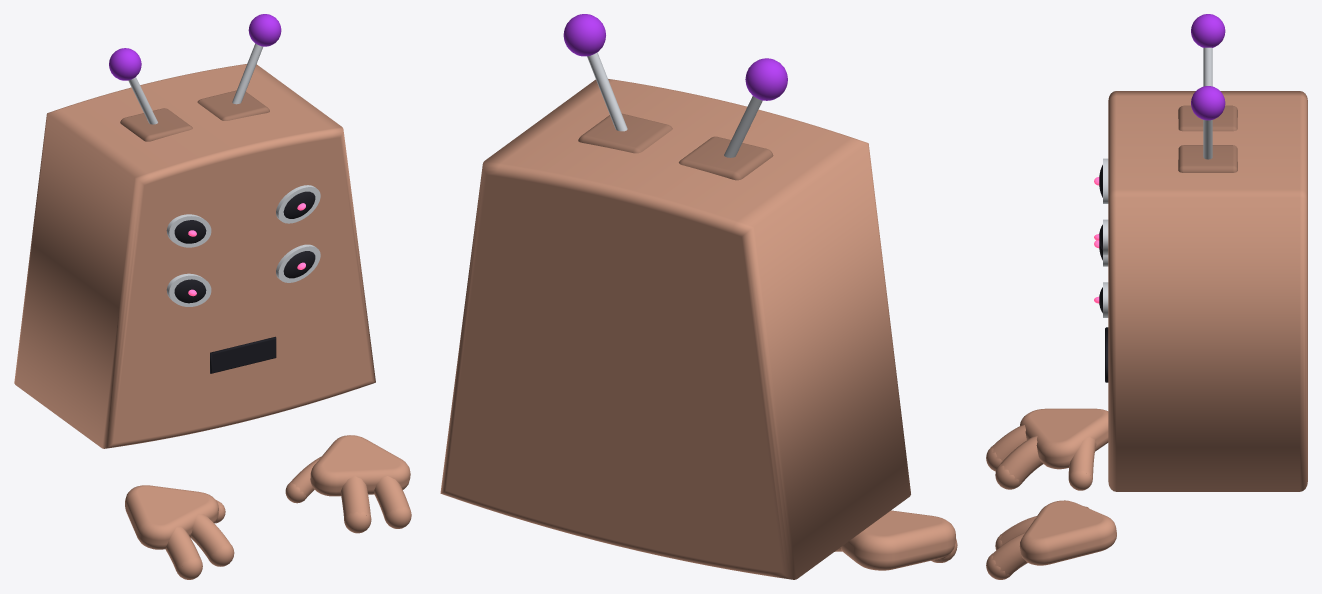
Rendered from model-seed-1.glb.
3 views of the same model, side by side, from view 1: azimuth 30°, elevation 25°; view 2: azimuth 150°, elevation 25°; view 3: azimuth 270°, elevation 25° (orthographic). The views are drawn at different scales.
Parts seen in each view (by area): view 1: head, hand-0, hand-1, mouth, finger-1-1, antenna-base-0, finger-0-1, finger-1-0, antenna-base-1, finger-0-0, antenna-ball-0, antenna-ball-1 (+10 smaller); view 2: head, hand-0, antenna-base-0, antenna-base-1, antenna-ball-0, antenna-ball-1, antenna-stem-1, antenna-stem-0; view 3: head, hand-1, hand-0, antenna-base-1, finger-0-1, finger-1-0, antenna-base-0, thumb-0, antenna-ball-1, antenna-ball-0, finger-0-0, finger-1-1.
Boxes of the visible parts, left/top/right/bottom form: head: left=14, top=64, right=375, bottom=448; hand-0: left=125, top=485, right=218, bottom=549; hand-1: left=310, top=435, right=410, bottom=496; mouth: left=210, top=336, right=276, bottom=373; finger-1-1: left=340, top=475, right=371, bottom=533; antenna-base-0: left=120, top=108, right=192, bottom=141; finger-0-1: left=190, top=513, right=234, bottom=566; finger-1-0: left=374, top=476, right=411, bottom=528; antenna-base-1: left=197, top=90, right=269, bottom=120; finger-0-0: left=165, top=527, right=202, bottom=579; antenna-ball-0: left=109, top=48, right=141, bottom=80; antenna-ball-1: left=248, top=14, right=281, bottom=46; head: left=440, top=79, right=910, bottom=579; hand-0: left=840, top=510, right=955, bottom=570; antenna-base-0: left=679, top=136, right=773, bottom=180; antenna-base-1: left=578, top=113, right=672, bottom=153; antenna-ball-0: left=745, top=58, right=787, bottom=100; antenna-ball-1: left=563, top=14, right=605, bottom=56; antenna-stem-1: left=587, top=52, right=627, bottom=131; antenna-stem-0: left=724, top=96, right=762, bottom=157; head: left=1108, top=91, right=1307, bottom=491; hand-1: left=1019, top=500, right=1116, bottom=565; hand-0: left=1020, top=408, right=1108, bottom=469; antenna-base-1: left=1178, top=145, right=1237, bottom=172; finger-0-1: left=995, top=436, right=1043, bottom=489; finger-1-0: left=986, top=532, right=1027, bottom=579; antenna-base-0: left=1178, top=105, right=1237, bottom=131; thumb-0: left=1068, top=437, right=1096, bottom=490; antenna-ball-1: left=1191, top=86, right=1225, bottom=120; antenna-ball-0: left=1191, top=14, right=1225, bottom=47; finger-0-0: left=986, top=425, right=1026, bottom=471; finger-1-1: left=995, top=516, right=1036, bottom=550.
Bounding box in the file's own units: 0.5 × 0.7854 × 0.4839.
